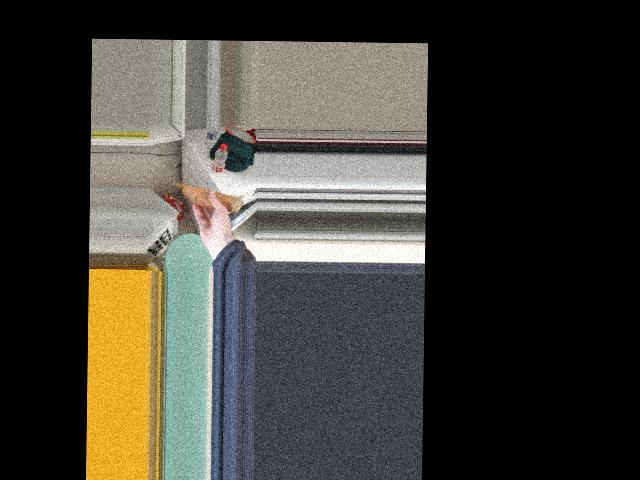sweet_potato: (174, 178, 238, 215)
